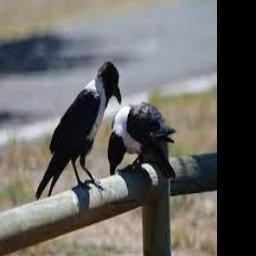Crow: (35, 62, 122, 204), (108, 101, 176, 176)
